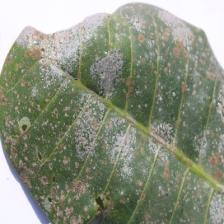red rust: (1, 6, 223, 222)
